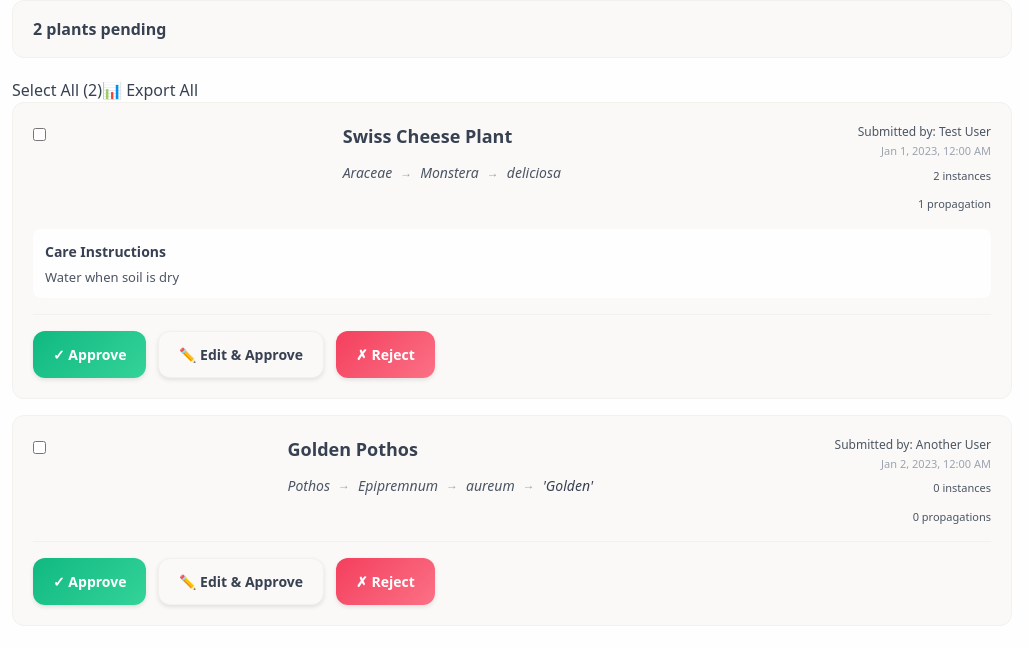
it: PlantApprovalQueue › shows processing state during actions
The width and height of the screenshot is (1029, 648).
Click the button "✓ Approve" below "Water when soil is dry" at x=90, y=354, box [33,331,146,378]
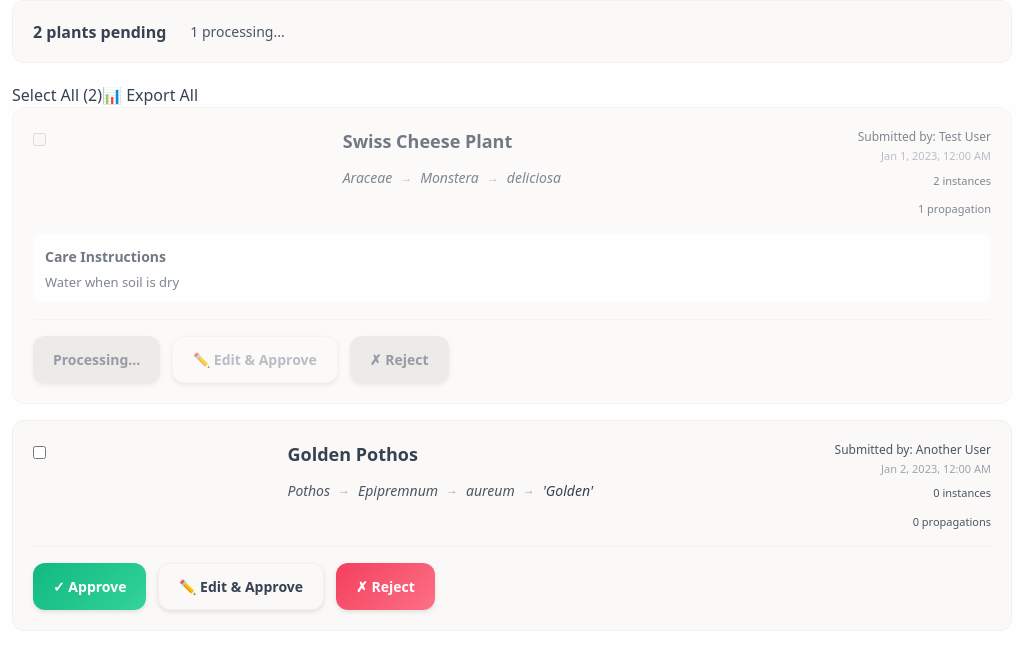
Expected: the text "1 processing..." is shown, [182,17,293,46]
